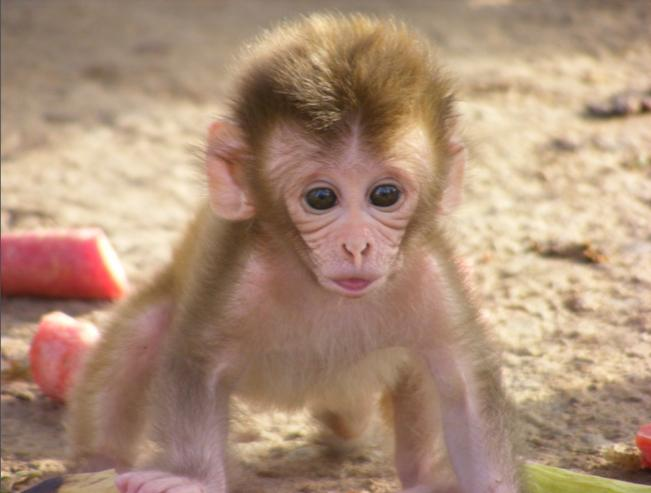monkey: (63, 9, 523, 492)
